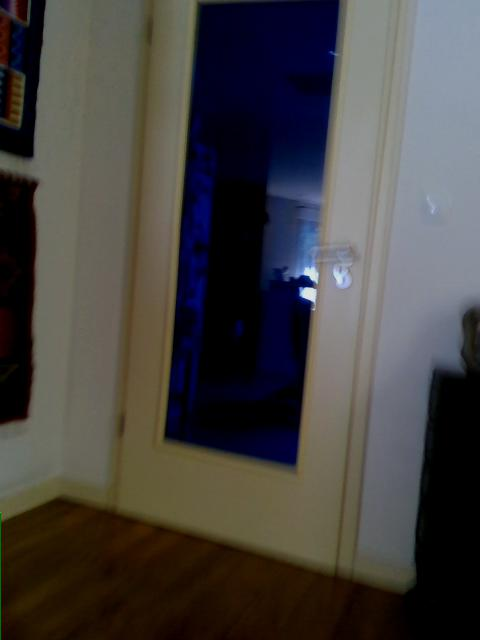closed_door: (100, 1, 419, 582)
